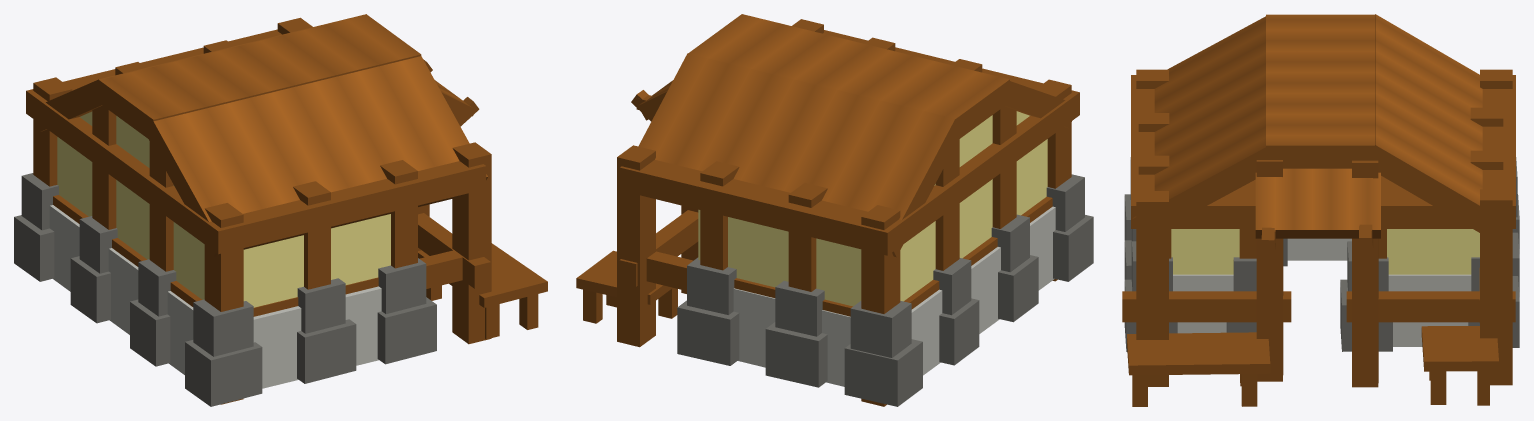
The model's file is fruitstand.fbx.
The picture shows the model from 3 angles, left to right: view 1: azimuth 30°, elevation 25°; view 2: azimuth 150°, elevation 25°; view 3: azimuth 270°, elevation 25°; orthographic projection.
Parts seen in each view (by area): view 1: polySurface177; view 2: polySurface177; view 3: polySurface177.
Part boxes in pixels (x1=…): polySurface177: x1=14, y1=14, x2=547, y2=406; polySurface177: x1=576, y1=14, x2=1093, y2=406; polySurface177: x1=1122, y1=14, x2=1519, y2=406.
Size of the model in its own units: 106 by 71.47 by 107.
Materials: 1 (1 with a texture image).
